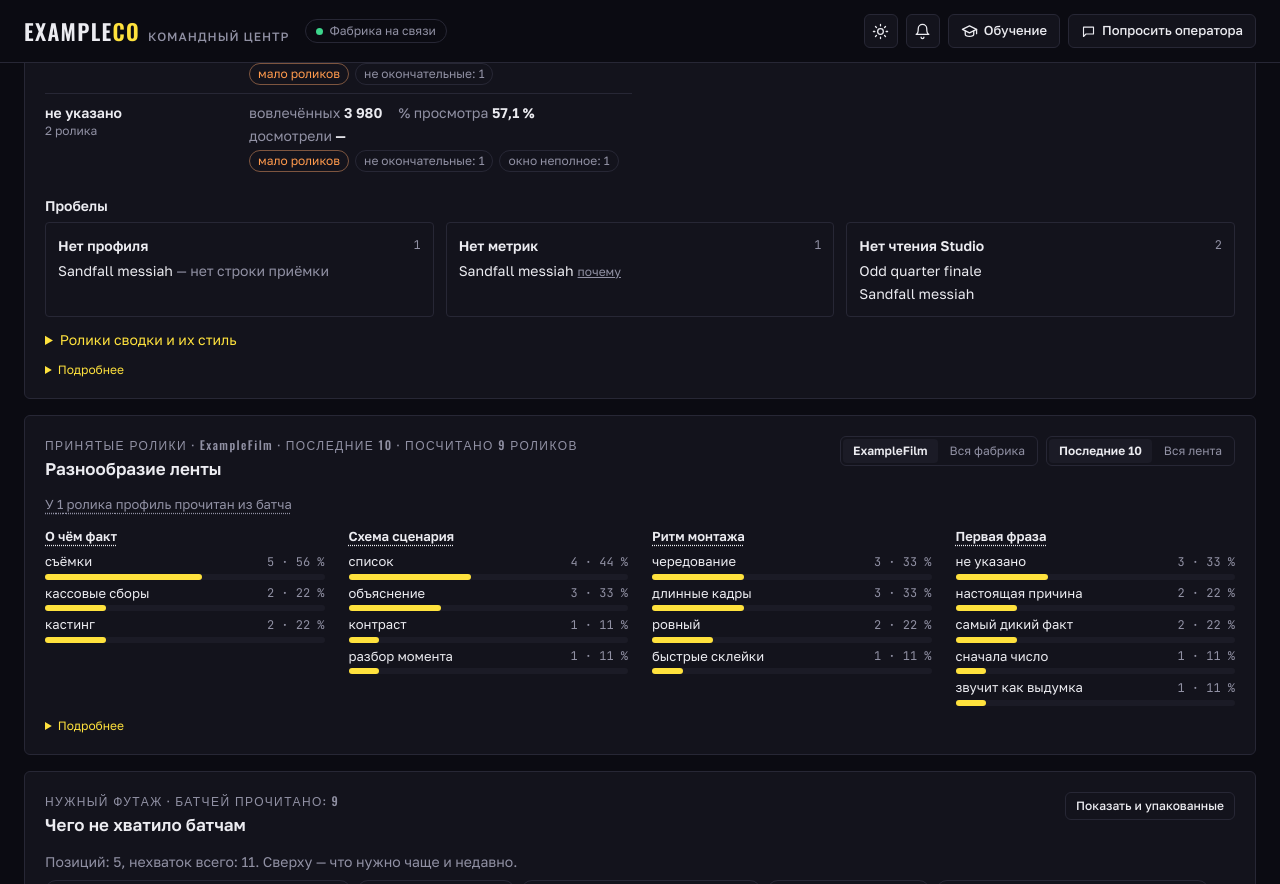
Scenario: «Статистика»: разнообразие ленты (CC-0115 → CC-0108) › «Вся фабрика» и «Вся лента» — другой запрос
(page scrolled)
Click the button with test id "diversity-all" at (987, 450), box [940,438,1035,462]
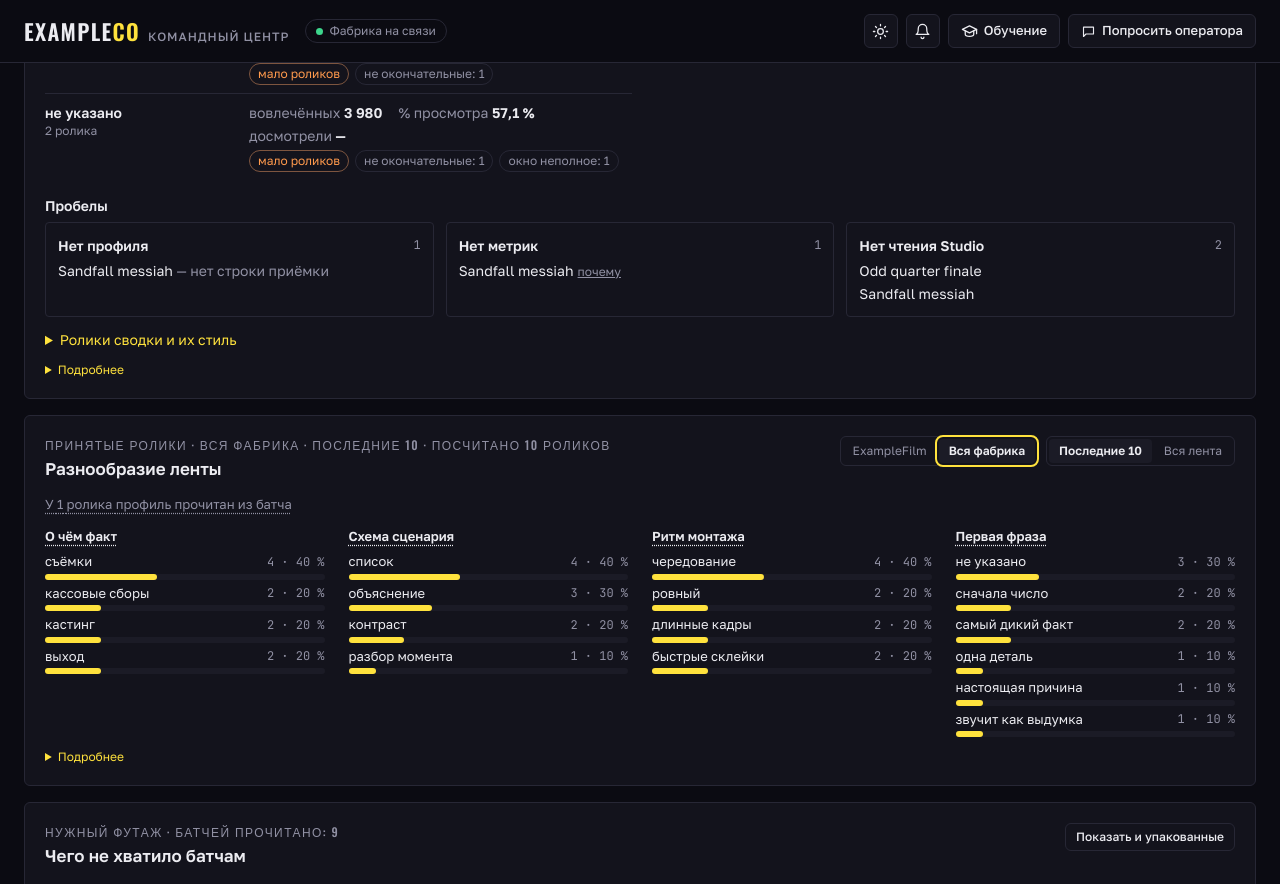
expect the text "вся фабрика · последние 10 · посчитано 10" is shown: met, box [45,436,611,454]
Click the button with test id "diversity-whole" at (1193, 450), box [1154,438,1232,462]
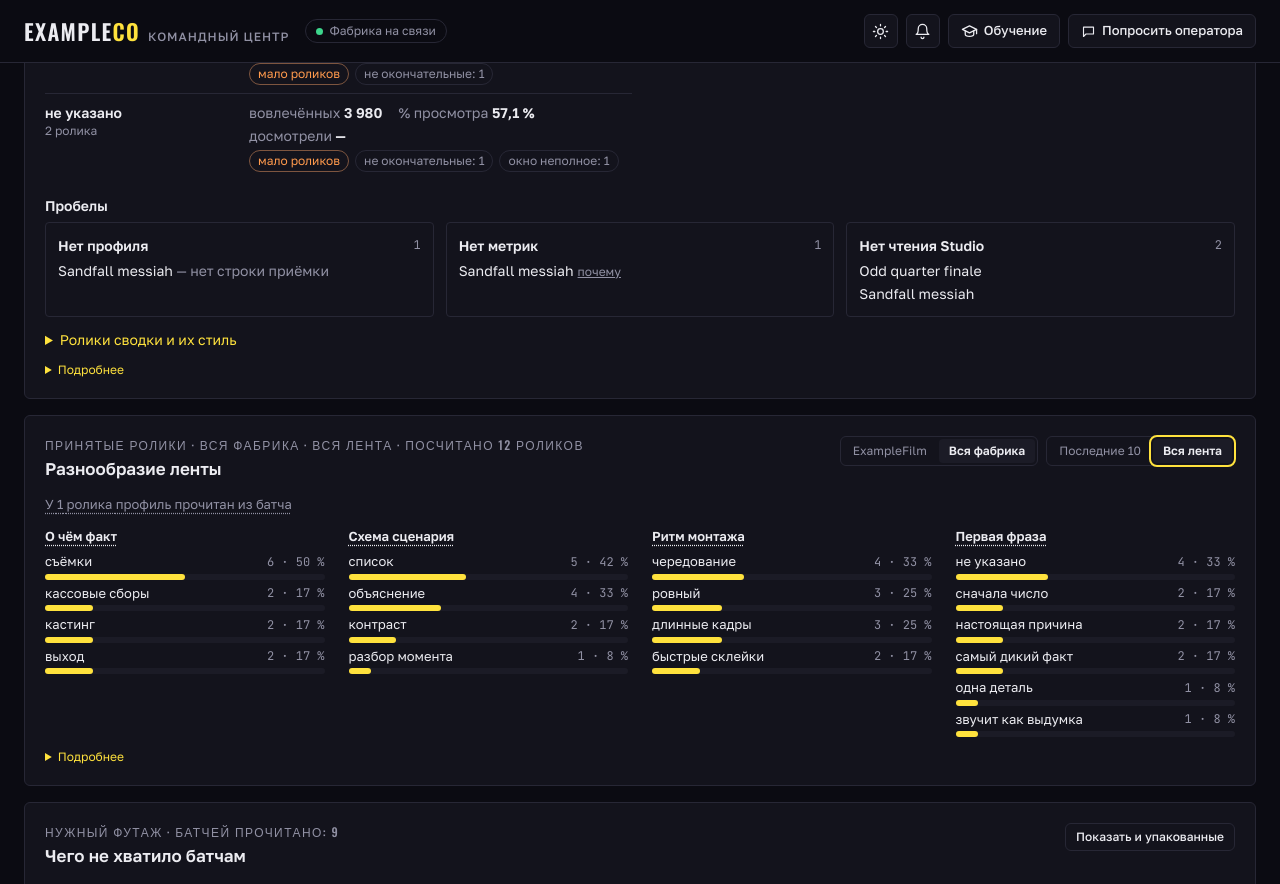
expect the text "вся фабрика · вся лента · посчитано 12" is shown: met, box [45,436,584,454]
